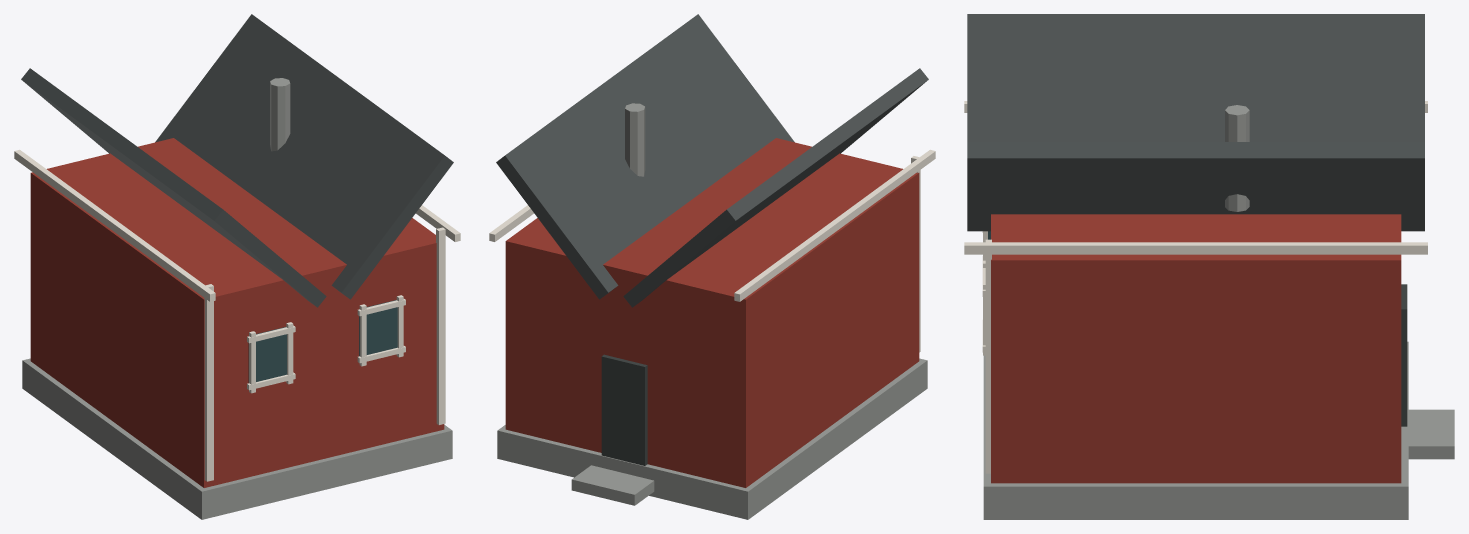
The model's file is norway-house-red-white_lod0.glb.
The picture shows the model from 3 angles, left to right: view 1: azimuth 30°, elevation 25°; view 2: azimuth 150°, elevation 25°; view 3: azimuth 270°, elevation 25°; orthographic projection. The views are drawn at different scales.
Visible parts, largest first — view 1: RF_House_Walls, RF_House_RoofB, RF_House_Foundation, RF_House_RoofA, RF_House_Fascia, RF_House_Corner.001, RF_House_Corner, RF_House_Chimney, RF_House_WindowRecess.001, RF_House_WindowRecess, RF_House_Fascia.001; view 2: RF_House_Walls, RF_House_RoofB, RF_House_Foundation, RF_House_RoofA, RF_House_Door, RF_House_Fascia, RF_House_Threshold, RF_House_Chimney, RF_House_Fascia.001; view 3: RF_House_Walls, RF_House_RoofA, RF_House_RoofB, RF_House_Foundation, RF_House_Fascia.001, RF_House_Threshold, RF_House_Corner.001, RF_House_Chimney, RF_House_Door.
Part boxes in pixels (x1,y1,x2,y2): RF_House_Walls: (30,138,444,487); RF_House_RoofB: (155,14,453,299); RF_House_Foundation: (22,358,452,519); RF_House_RoofA: (21,68,326,307); RF_House_Fascia: (14,149,215,301); RF_House_Corner.001: (436,227,445,424); RF_House_Corner: (204,284,213,481); RF_House_Chimney: (270,78,290,151); RF_House_WindowRecess.001: (359,300,397,356); RF_House_WindowRecess: (248,327,286,382); RF_House_Fascia.001: (415,205,460,241); RF_House_Walls: (505,138,919,487); RF_House_RoofB: (496,14,794,299); RF_House_Foundation: (497,358,927,519); RF_House_RoofA: (623,68,928,307); RF_House_Door: (601,354,647,465); RF_House_Fascia: (734,149,935,301); RF_House_Threshold: (571,465,654,505); RF_House_Chimney: (625,103,645,176); RF_House_Fascia.001: (489,205,534,241); RF_House_Walls: (991,214,1401,483); RF_House_RoofA: (967,14,1424,141); RF_House_RoofB: (967,142,1424,231); RF_House_Foundation: (983,341,1408,519); RF_House_Fascia.001: (964,242,1427,254); RF_House_Threshold: (1408,409,1454,459); RF_House_Corner.001: (985,239,991,473); RF_House_Chimney: (1225,105,1249,211); RF_House_Door: (1401,284,1407,426).
Size of the model in its own units: 8.35 by 10 by 11.95.
